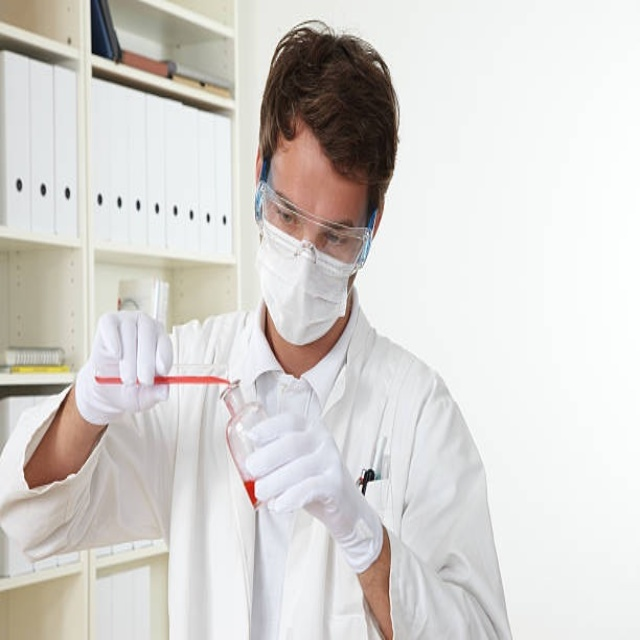Gafas: (254, 156, 377, 275)
Guantes: (238, 402, 383, 577), (74, 311, 173, 425)
Mascara: (252, 216, 356, 345)
